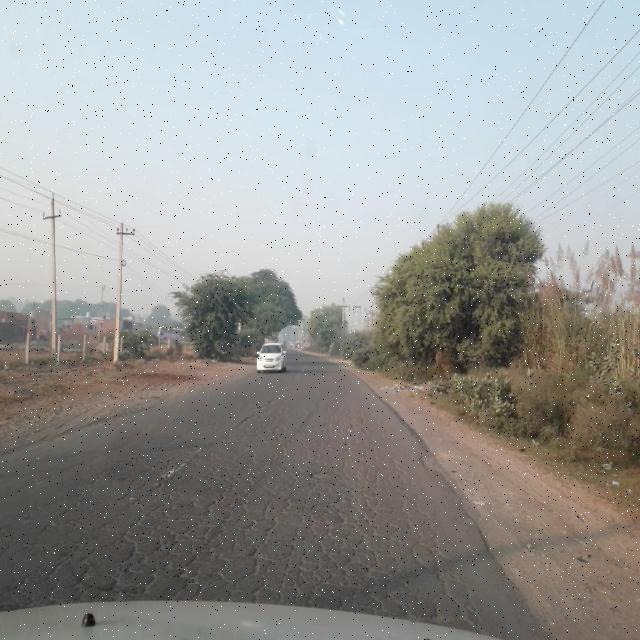D20: (1, 438, 481, 604)
D40: (416, 450, 453, 476), (301, 462, 339, 487)
